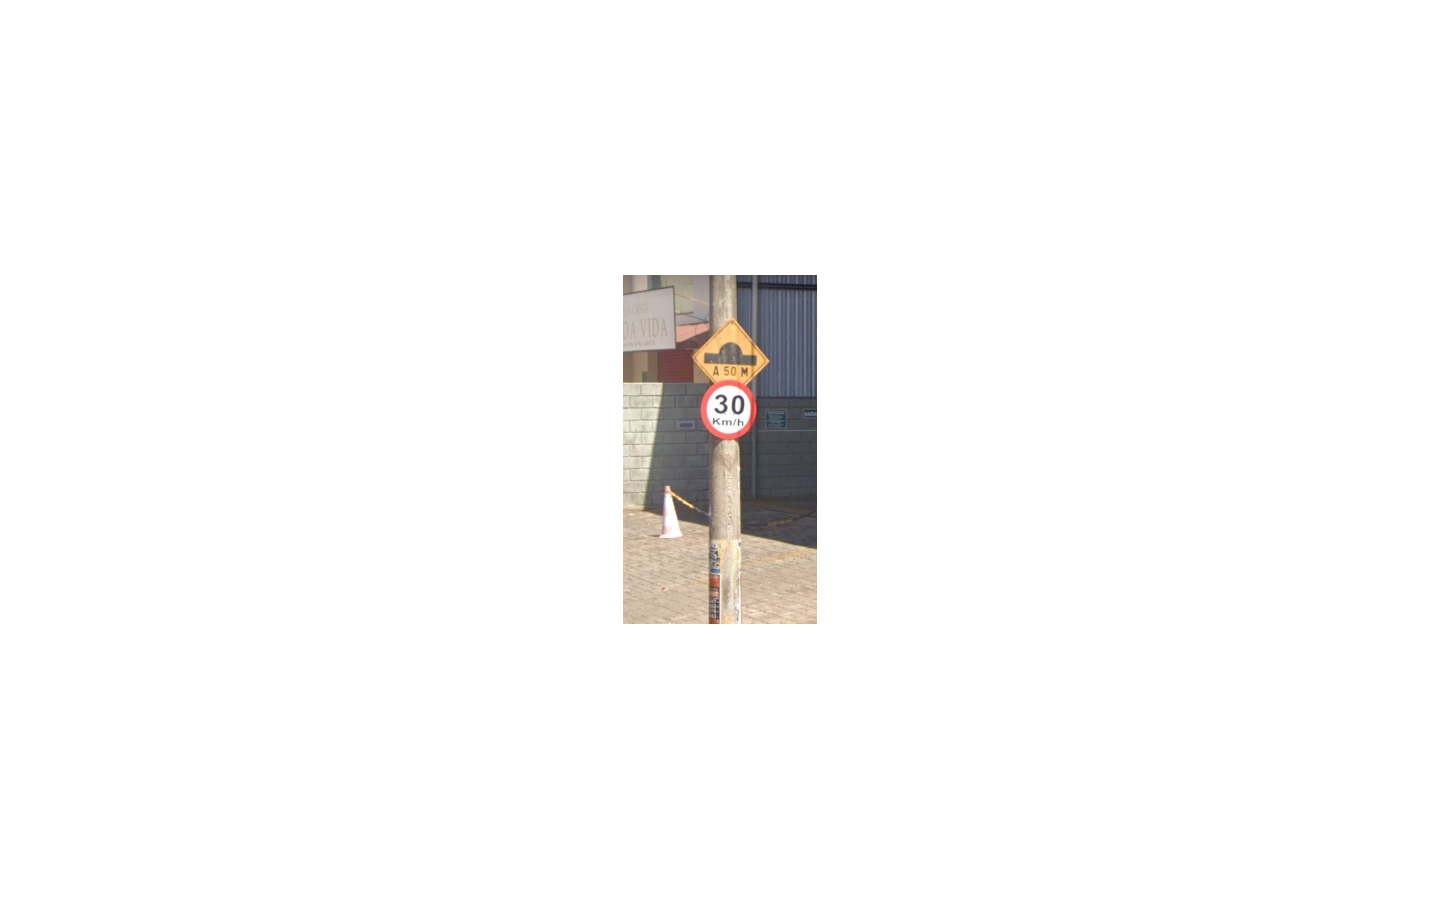l50m: (691, 317, 771, 386)
